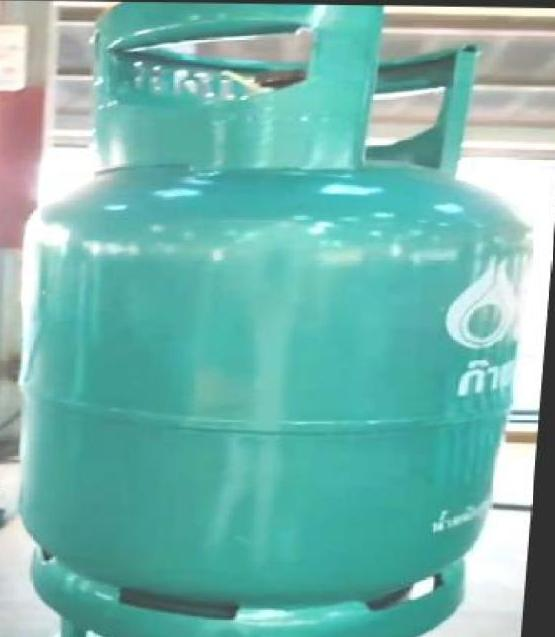cylinder: (0, 1, 555, 637)
